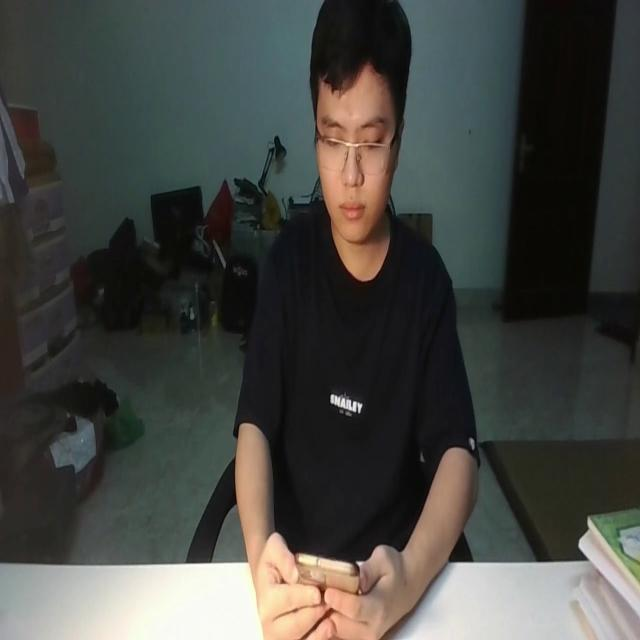phone: (295, 546, 359, 597)
student: (231, 0, 481, 640)
